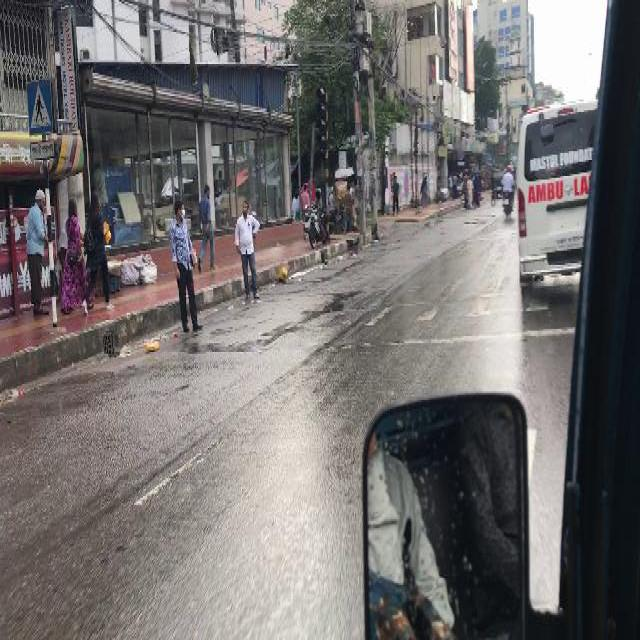bike: (304, 208, 331, 249), (502, 167, 514, 219)
vehicle: (519, 99, 594, 291), (334, 180, 350, 235), (306, 181, 317, 206)
